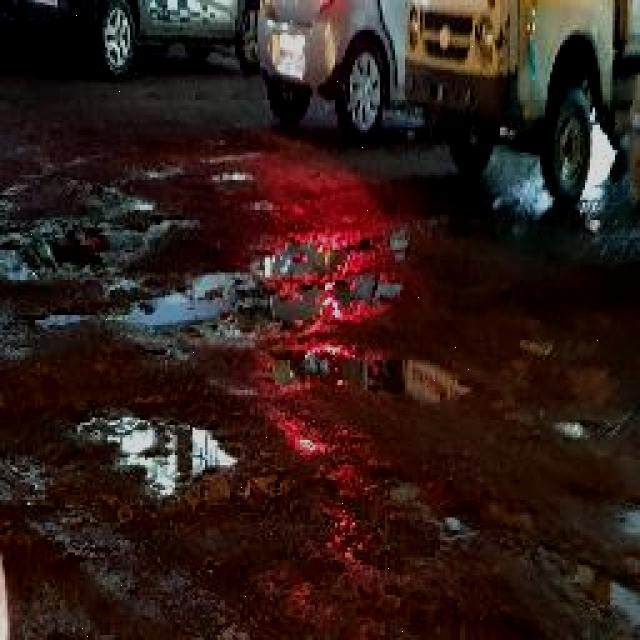stagnation: (0, 170, 188, 290)
